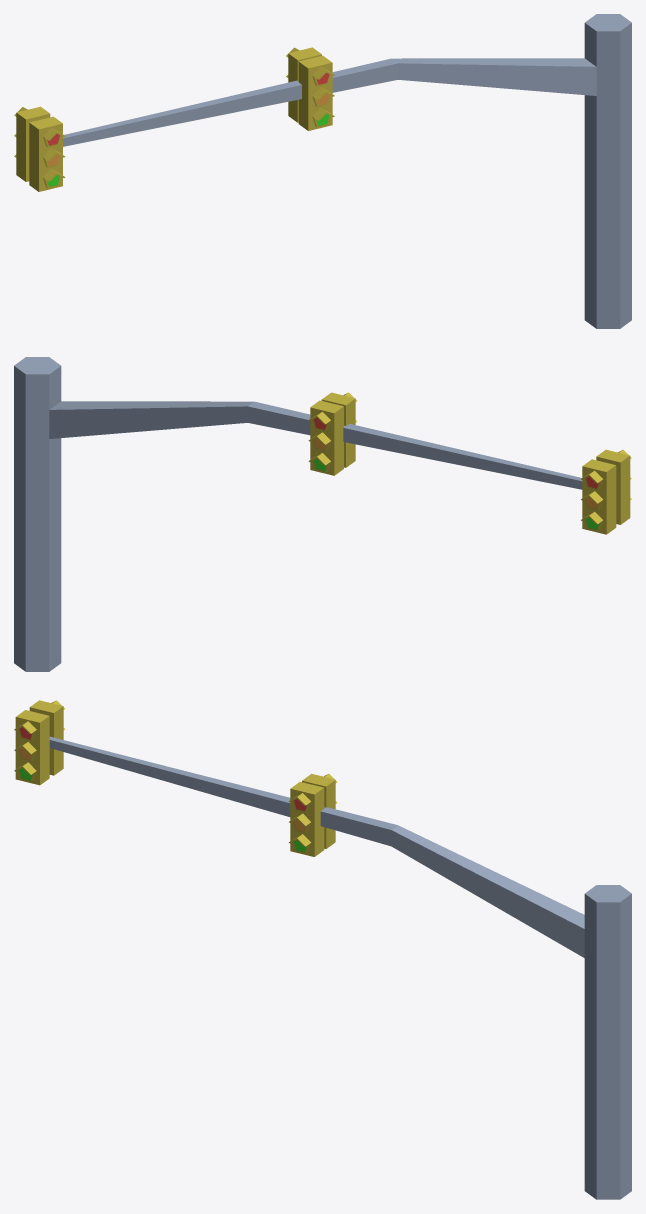
File: Traffic light.fbx
The picture shows the model from 3 angles, top to bottom: view 1: azimuth 30°, elevation 25°; view 2: azimuth 150°, elevation 25°; view 3: azimuth 330°, elevation 25°; orthographic projection.
Parts seen in each view (by area): view 1: Cylinder.001; view 2: Cylinder.001; view 3: Cylinder.001.
Part boxes in pixels (x1=…): Cylinder.001: x1=14, y1=14, x2=631, y2=328; Cylinder.001: x1=14, y1=357, x2=631, y2=671; Cylinder.001: x1=14, y1=700, x2=631, y2=1199.
Bounding box in the file's own units: 2928 × 1594 × 293.
